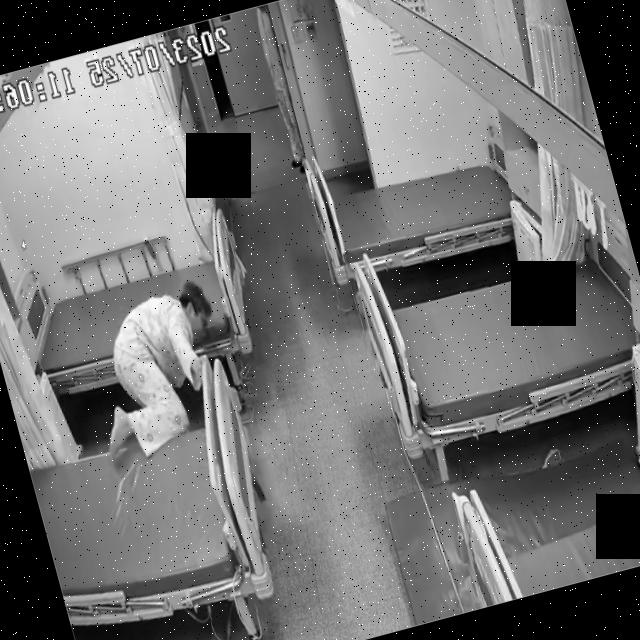bed: (12, 349, 288, 640), (360, 239, 640, 454), (7, 232, 264, 408), (312, 141, 520, 285)
danger: (67, 272, 243, 463)
patient: (69, 277, 244, 465)
